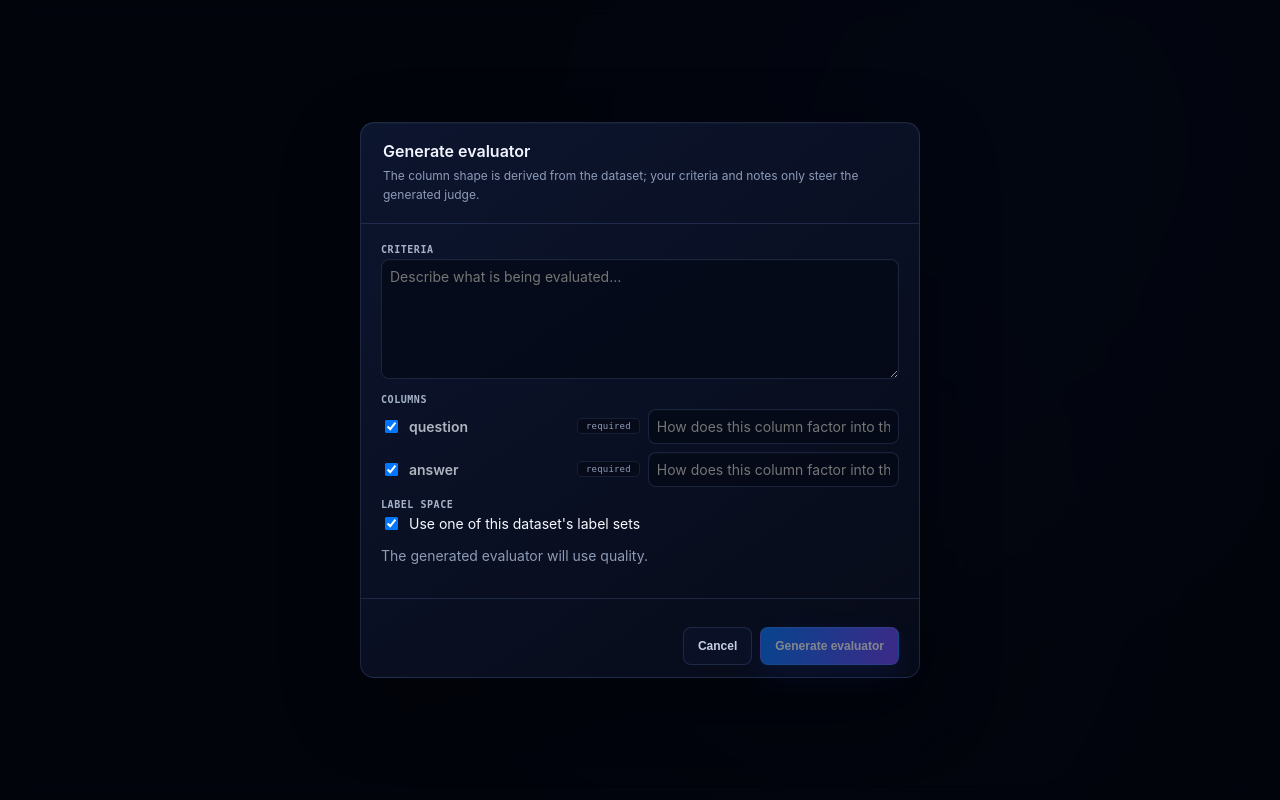
Test case: EvaluatorFromDataset › surfaces a server error inside the modal and does not hand back a draft
Type "Judge answer quality." into the text box labelled "Criteria" at [640, 319], box [381,259,899,379]
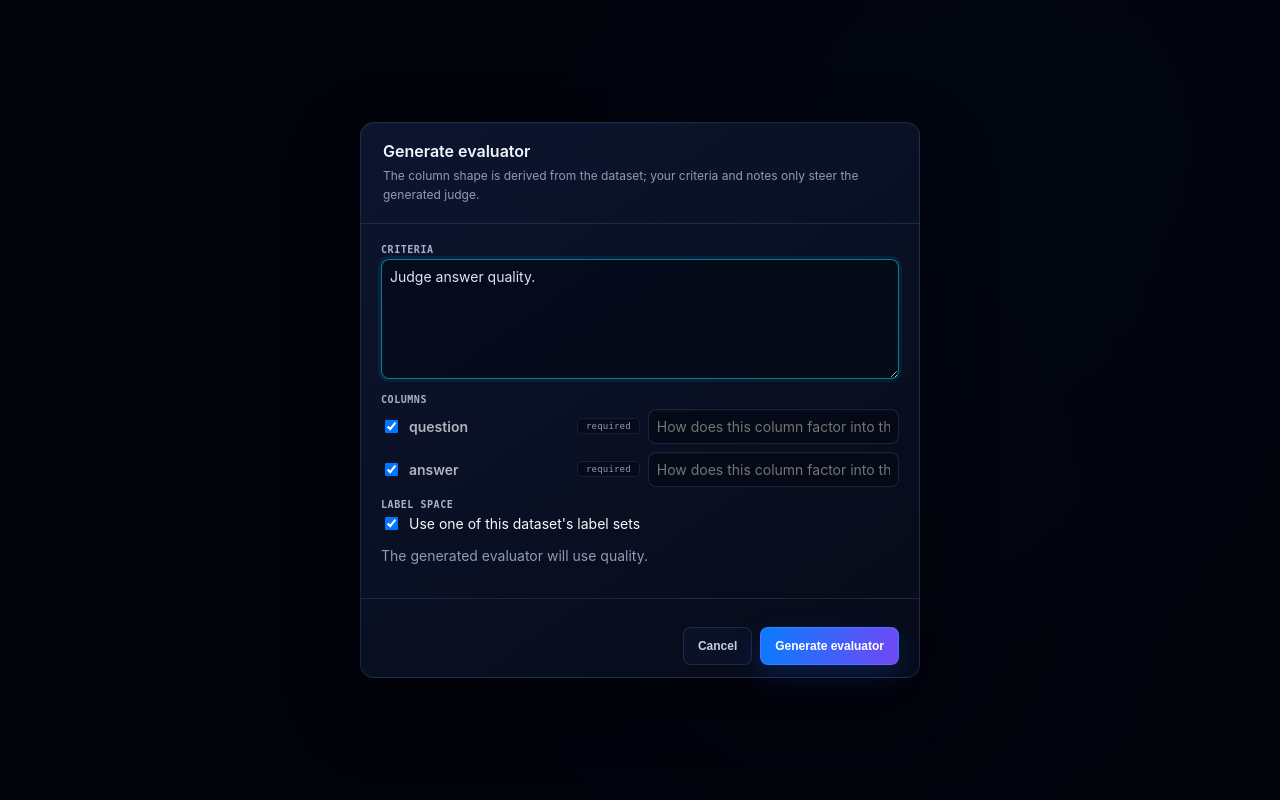
Click the button "Generate evaluator" at [830, 646], box [760,627,899,665]
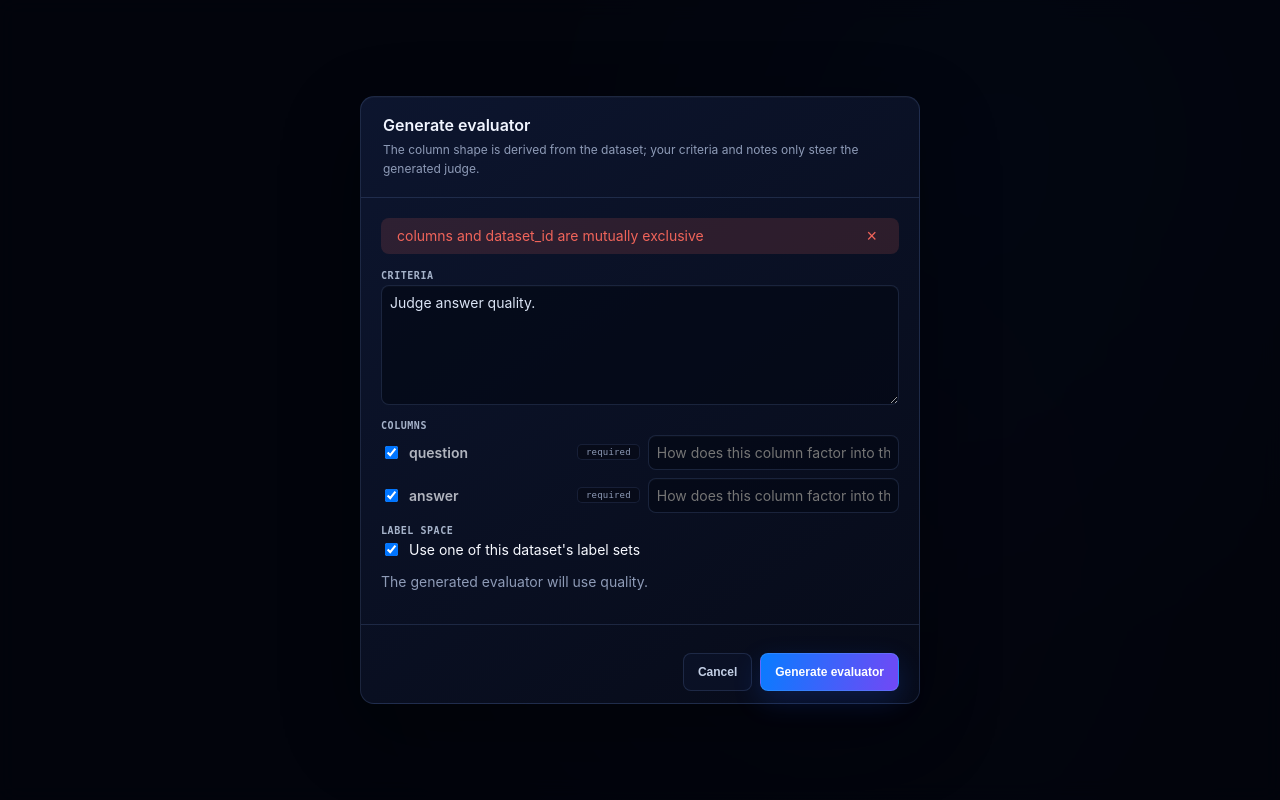
Expected: the text "columns and dataset_id are mutually exclusive" is shown, [397,227,704,244]
